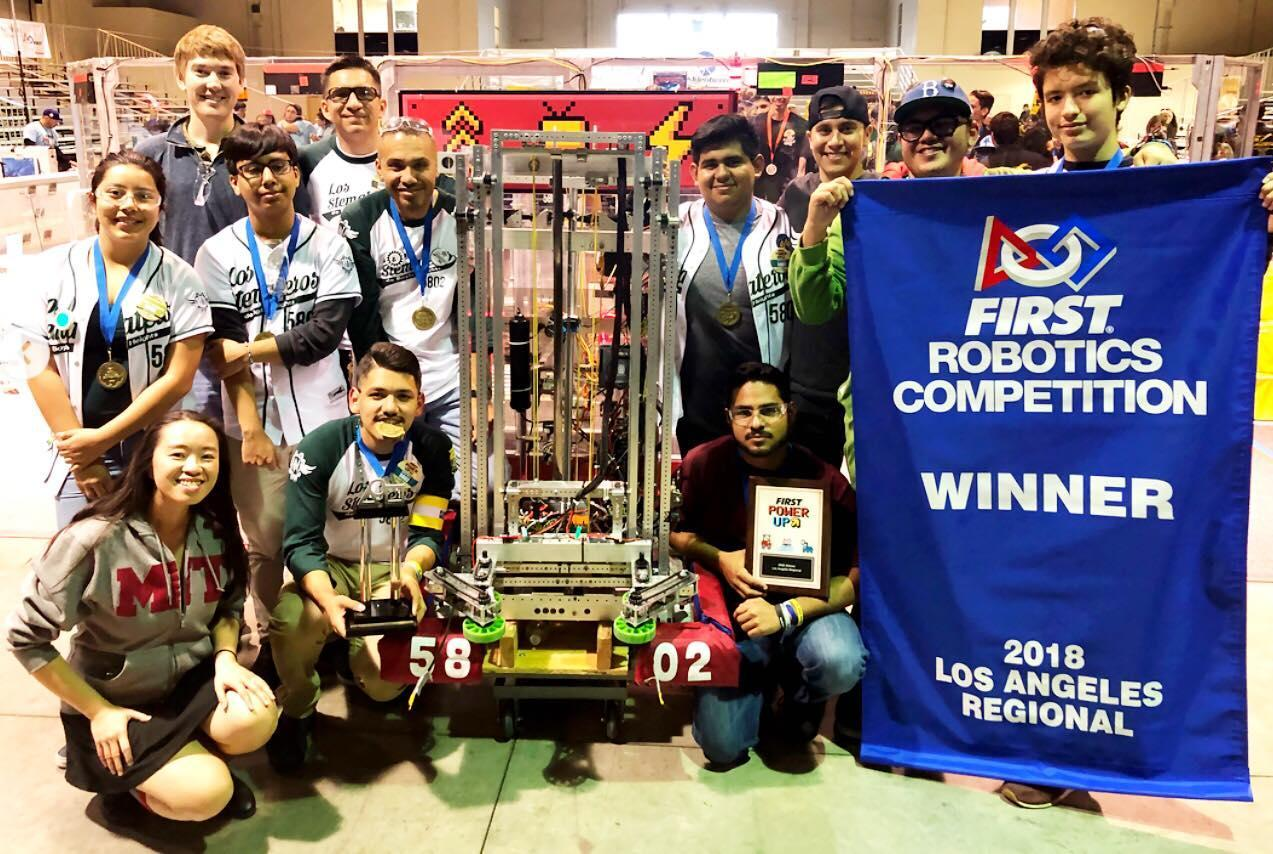robot: (374, 99, 748, 708)
